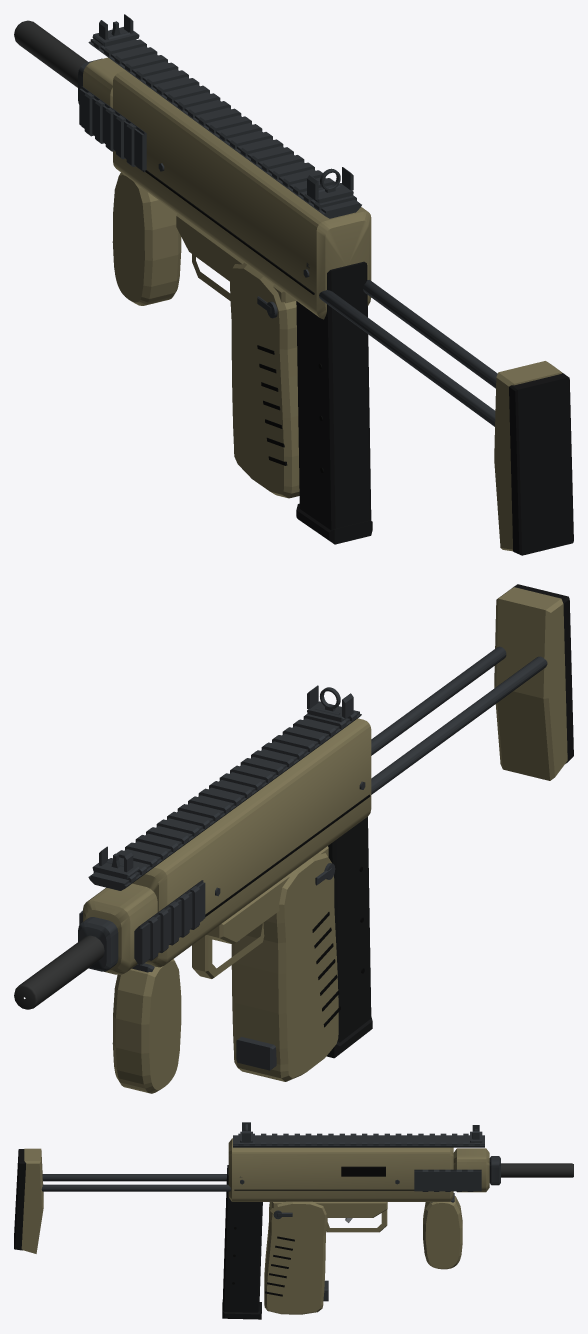
File: weapon-56-BXzBgmZa.glb
The picture shows the model from 3 angles, top to bottom: view 1: azimuth 30°, elevation 25°; view 2: azimuth 150°, elevation 25°; view 3: azimuth 270°, elevation 25°; orthographic projection. The views are drawn at different scales.
Parts seen in each view (by area): view 1: salient_weapon_body, salient_weapon_magazine, salient_weapon_iron; view 2: salient_weapon_body, salient_weapon_magazine, salient_weapon_iron; view 3: salient_weapon_body, salient_weapon_magazine, salient_weapon_iron.
Boxes of the visible parts, box(x1,y1,x2,y2) form: salient_weapon_body: box(14, 20, 573, 555); salient_weapon_magazine: box(296, 261, 372, 544); salient_weapon_iron: box(92, 14, 353, 203); salient_weapon_body: box(14, 584, 573, 1093); salient_weapon_magazine: box(326, 817, 372, 1058); salient_weapon_iron: box(92, 685, 353, 878); salient_weapon_body: box(14, 1133, 573, 1314); salient_weapon_magazine: box(222, 1165, 262, 1319); salient_weapon_iron: box(240, 1122, 482, 1142).
Bounding box in the file's own units: 0.0376 × 0.1867 × 0.4978.
